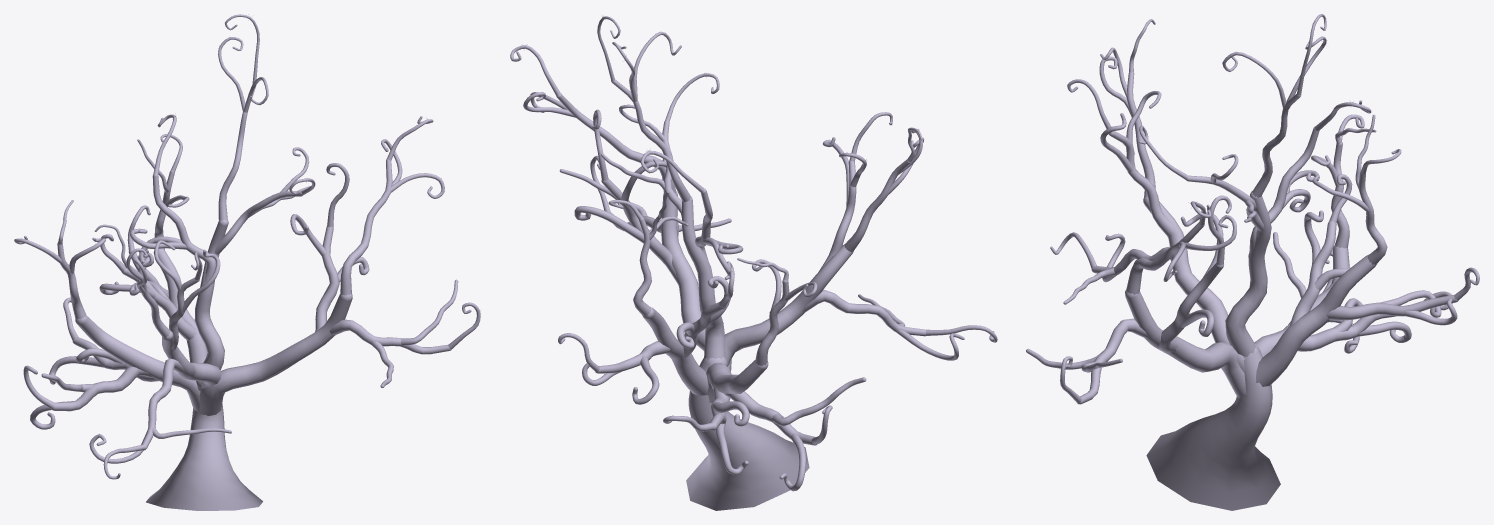
Rendered from spooky-663.glb.
3 views of the same model, side by side, from view 1: azimuth 30°, elevation 25°; view 2: azimuth 150°, elevation 25°; view 3: azimuth 270°, elevation 25° (orthographic). The views are drawn at different scales.
Visible parts, largest first — view 1: wood; view 2: wood; view 3: wood.
Part boxes in pixels (bbox=[...]): wood: bbox=[14, 14, 480, 510]; wood: bbox=[510, 16, 997, 510]; wood: bbox=[1026, 14, 1479, 510].
Size of the model in its own units: 7.82 by 8.66 by 6.89.
